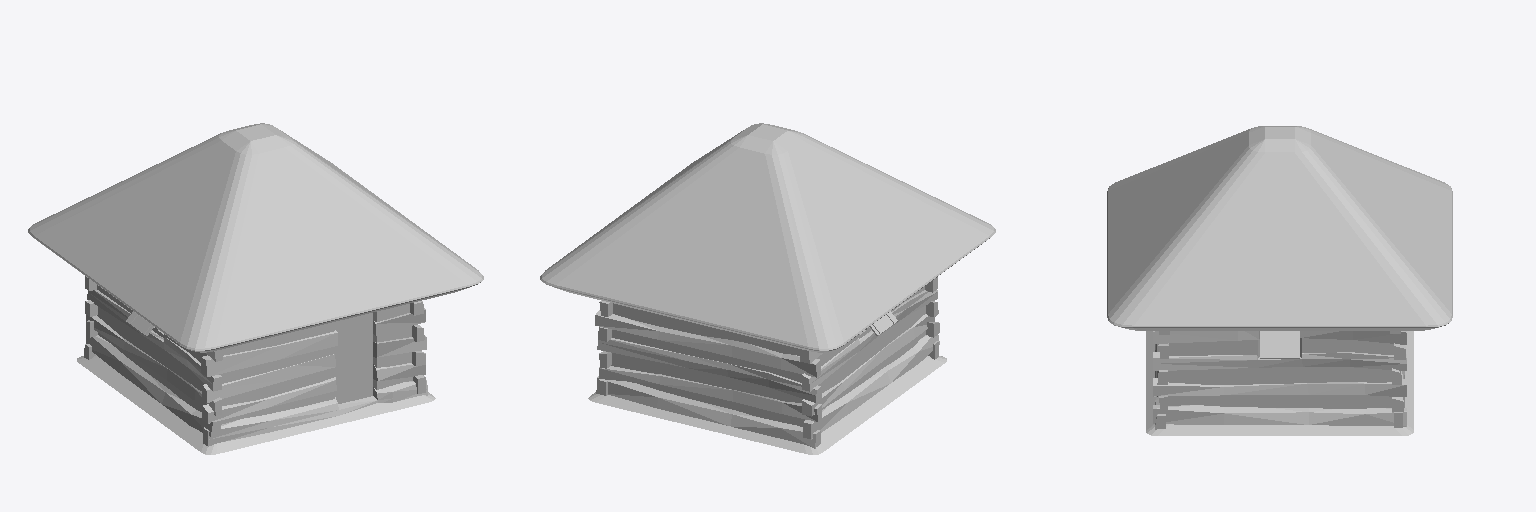
File: smokery.obj
3 views of the same model, side by side, from view 1: azimuth 30°, elevation 25°; view 2: azimuth 150°, elevation 25°; view 3: azimuth 270°, elevation 25° (orthographic).
Visible parts, largest first — view 1: ROOF; view 2: ROOF; view 3: ROOF.
Part boxes in pixels (bbox=[...]): ROOF: bbox=[28, 123, 483, 454]; ROOF: bbox=[540, 123, 995, 454]; ROOF: bbox=[1107, 126, 1452, 435].
Size of the model in its own units: 4.18 by 3.29 by 4.18.